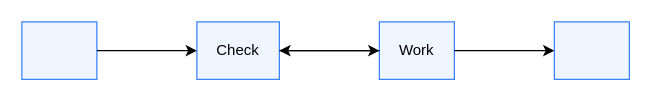
This 651x101 diagram has some shape labels left out. The shapes that lost their labels are listed below. From the top down, each one's centre as x and y in pixels, then its label:
At (x=59, y=50): "Init".
At (x=591, y=50): "Exit".
